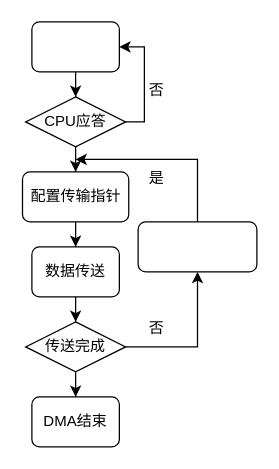
The diagram is 279 pixels wide and 469 high, and some of its shapes have lost their labels. Here are the shapes that lost their labels. From the top down, the box of each, then its label:
(31, 21, 119, 72): DMA请求
(137, 221, 257, 272): 修改地址指针
